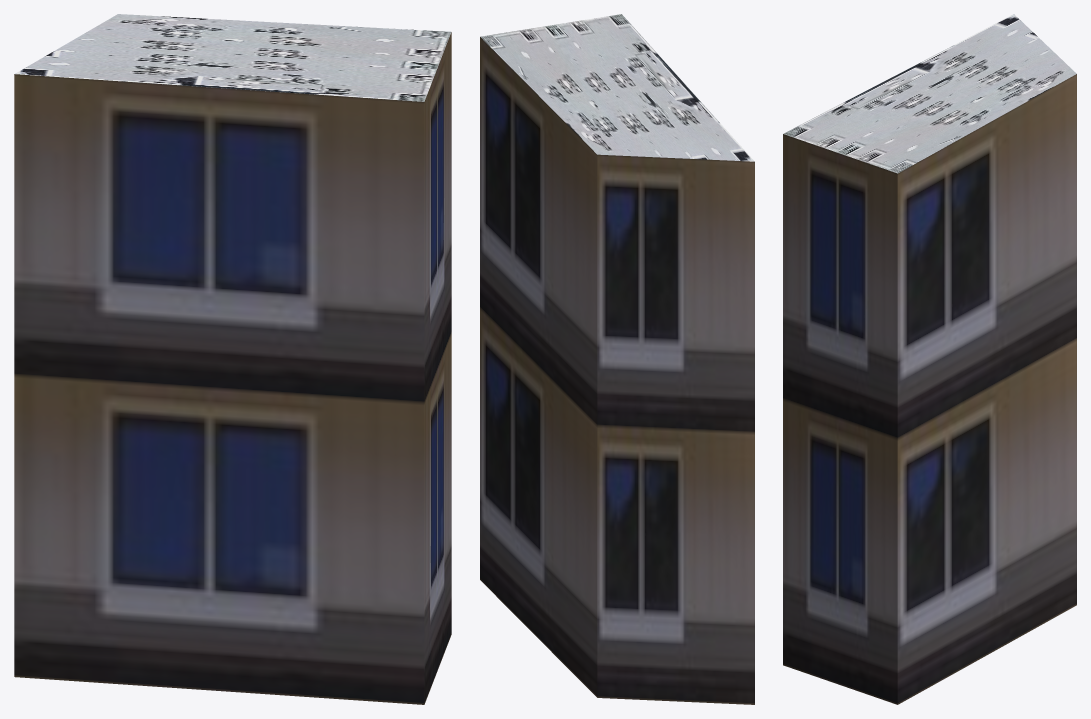
File: ResTex__994.fbx
3 renders of one model, left to right at view 1: azimuth 30°, elevation 25°; view 2: azimuth 150°, elevation 25°; view 3: azimuth 270°, elevation 25°, orthographic. The views are drawn at different scales.
Parts seen in each view (by area): view 1: CityEngineMaterial_5_m, CityEngineMaterial_4_m; view 2: CityEngineMaterial_5_m, CityEngineMaterial_4_m; view 3: CityEngineMaterial_5_m, CityEngineMaterial_4_m.
Part boxes in pixels (x1,y1,x2,y2): CityEngineMaterial_5_m: (14, 32, 451, 704); CityEngineMaterial_4_m: (15, 14, 451, 101); CityEngineMaterial_5_m: (480, 37, 754, 704); CityEngineMaterial_4_m: (480, 14, 754, 161); CityEngineMaterial_5_m: (783, 74, 1076, 704); CityEngineMaterial_4_m: (783, 14, 1076, 173).
Bounding box in the file's own units: 3.86 × 6 × 3.01.
Materials: 2 (2 with a texture image).
